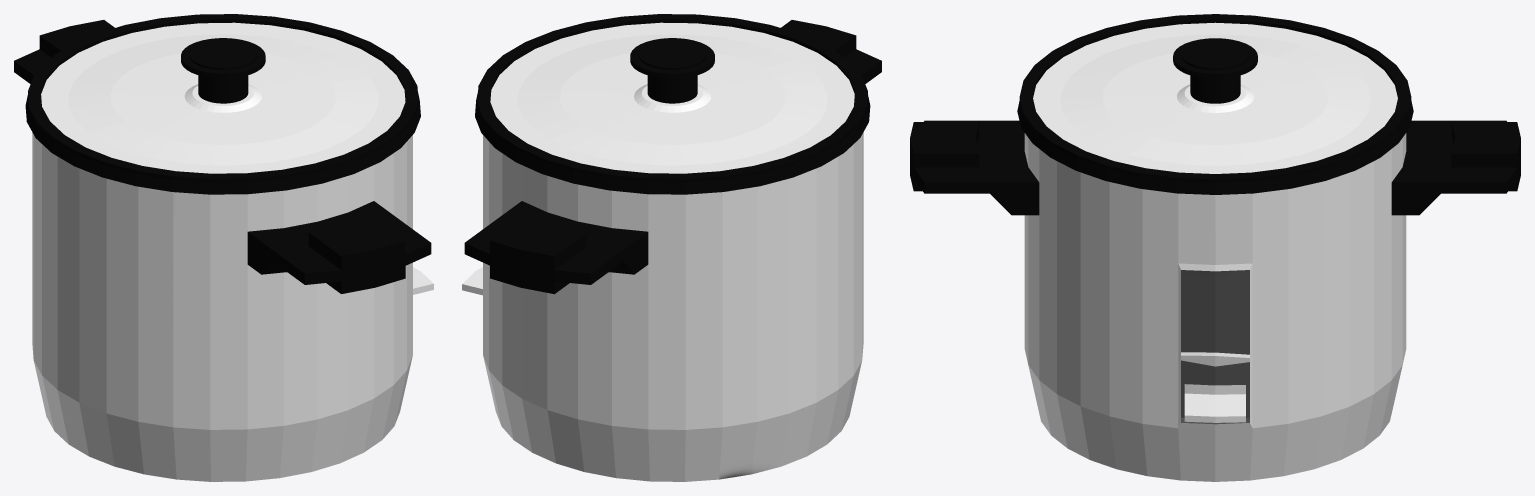
Rendered from rice cooker3.fbx.
3 renders of one model, left to right at view 1: azimuth 30°, elevation 25°; view 2: azimuth 150°, elevation 25°; view 3: azimuth 270°, elevation 25°, orthographic.
Visible parts, largest first — view 1: rice cooker base, rice cooker cover, handles; view 2: rice cooker base, rice cooker cover, handles; view 3: rice cooker base, rice cooker cover, handles, light indicator.
Part boxes in pixels (box(x1,y1,x2,y2)): rice cooker base: box(32, 132, 433, 481); rice cooker cover: box(25, 14, 420, 194); handles: box(14, 20, 431, 293); rice cooker base: box(462, 132, 863, 481); rice cooker cover: box(475, 14, 870, 194); handles: box(464, 20, 881, 294); rice cooker base: box(1024, 133, 1406, 481); rice cooker cover: box(1017, 14, 1413, 194); handles: box(910, 120, 1520, 215); light indicator: box(1181, 352, 1249, 366).
Bounding box in the file's own units: 224 × 204 × 320.
3 materials, 3 textured.
